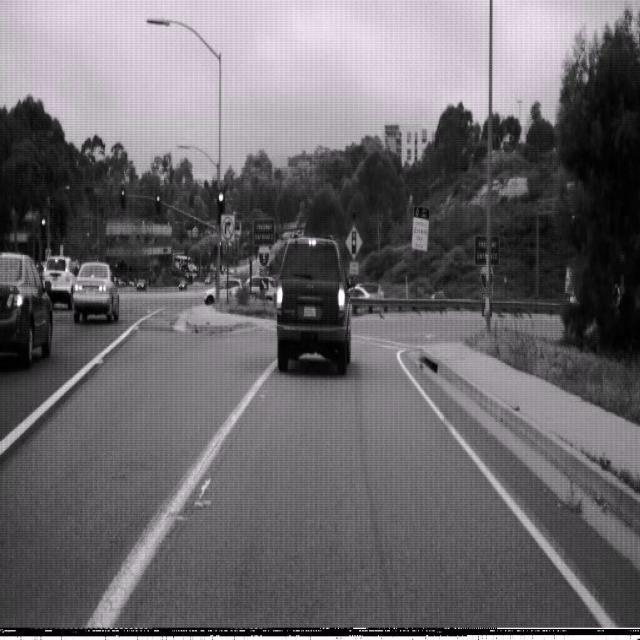noRightTurn: (220, 215, 233, 240)
